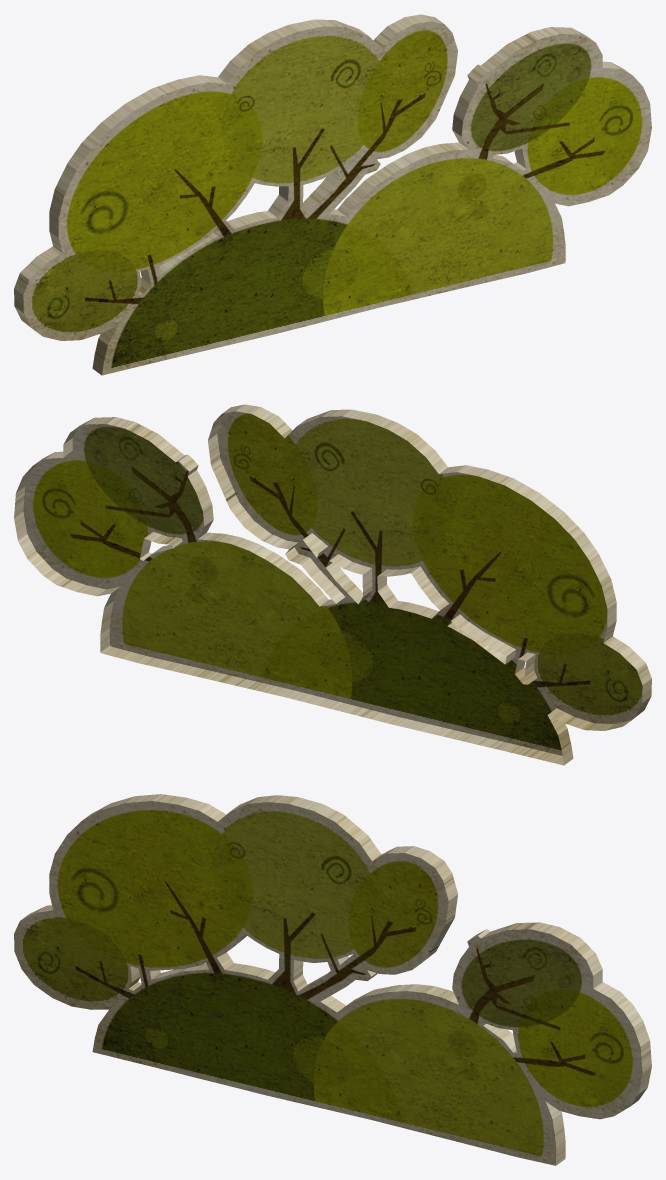
The model's file is plant_09.FBX.
3 views of the same model, one above another, from view 1: azimuth 30°, elevation 25°; view 2: azimuth 150°, elevation 25°; view 3: azimuth 330°, elevation 25° (orthographic).
Parts seen in each view (by area): view 1: Plane01; view 2: Plane01; view 3: Plane01.
Part boxes in pixels (x1,y1,x2,y2): Plane01: [14, 14, 651, 375]; Plane01: [14, 404, 651, 765]; Plane01: [14, 794, 651, 1165].
Bounding box in the file's own units: 126 × 56.95 × 3.26.
